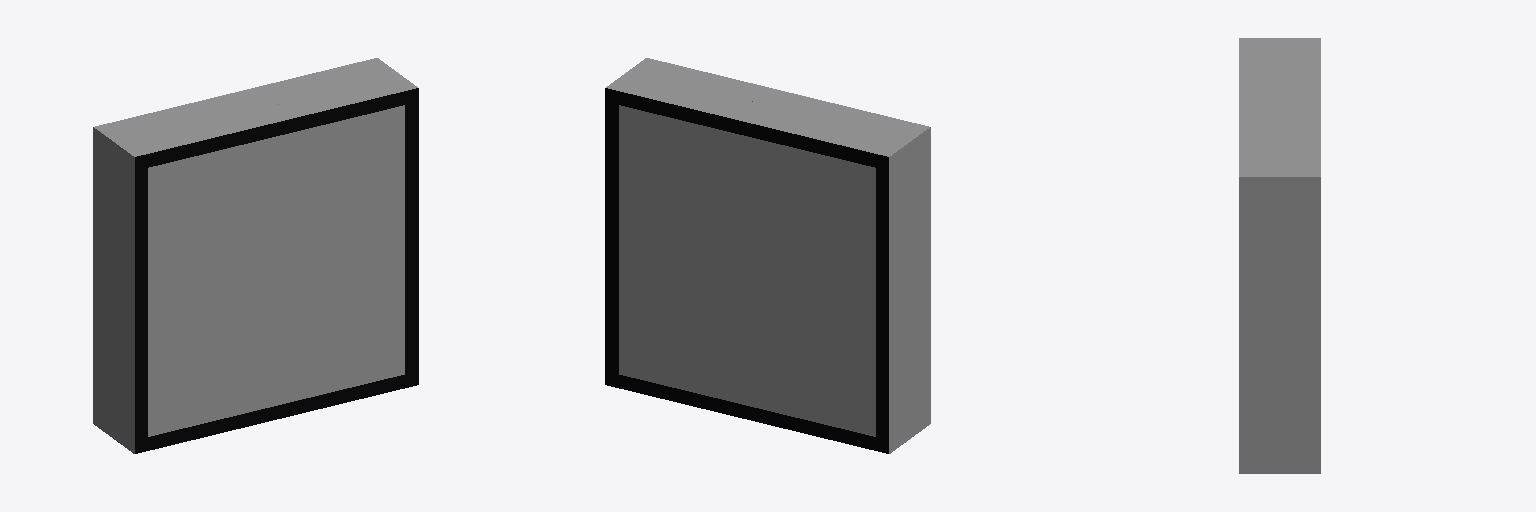
3 views of the same model, side by side, from view 1: azimuth 30°, elevation 25°; view 2: azimuth 150°, elevation 25°; view 3: azimuth 270°, elevation 25° (orthographic).
Parts seen in each view (by area): view 1: Cube; view 2: Cube; view 3: Cube.
Boxes of the visible parts, x1,y1,x2,y2 form: Cube: [93, 58, 418, 453]; Cube: [605, 58, 930, 453]; Cube: [1239, 38, 1320, 473].
Size of the model in its own units: 2 by 2 by 0.5035.
Materials: 1 (1 with a texture image).